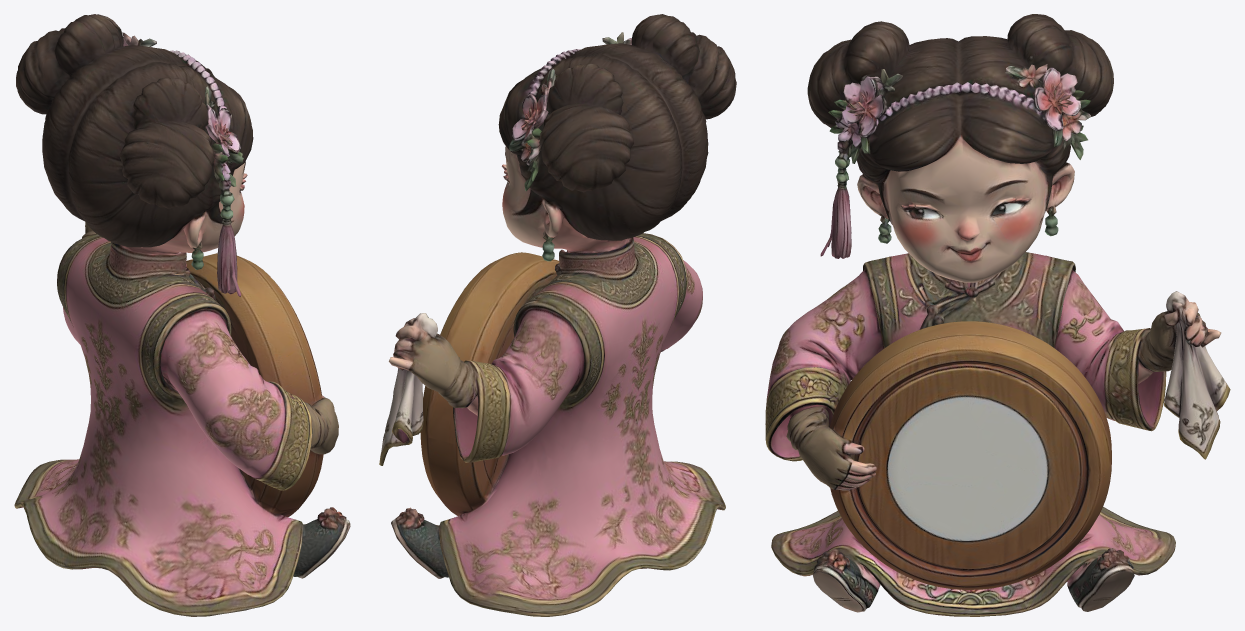
Rendered from n_w05_qing_gege.glb.
The picture shows the model from 3 angles, left to right: view 1: azimuth 30°, elevation 25°; view 2: azimuth 150°, elevation 25°; view 3: azimuth 270°, elevation 25°; orthographic projection. The views are drawn at different scales.
Visible parts, largest first — view 1: tripo_node_aabbbbf0-bf56-4457-b10c-21eded7bb169; view 2: tripo_node_aabbbbf0-bf56-4457-b10c-21eded7bb169; view 3: tripo_node_aabbbbf0-bf56-4457-b10c-21eded7bb169.
Boxes of the visible parts, bbox=[...] form: tripo_node_aabbbbf0-bf56-4457-b10c-21eded7bb169: bbox=[14, 14, 350, 616]; tripo_node_aabbbbf0-bf56-4457-b10c-21eded7bb169: bbox=[379, 14, 736, 616]; tripo_node_aabbbbf0-bf56-4457-b10c-21eded7bb169: bbox=[765, 14, 1230, 616].
Size of the model in its own units: 0.4503 by 0.9798 by 0.7719.
Materials: 1 (1 with a texture image).
